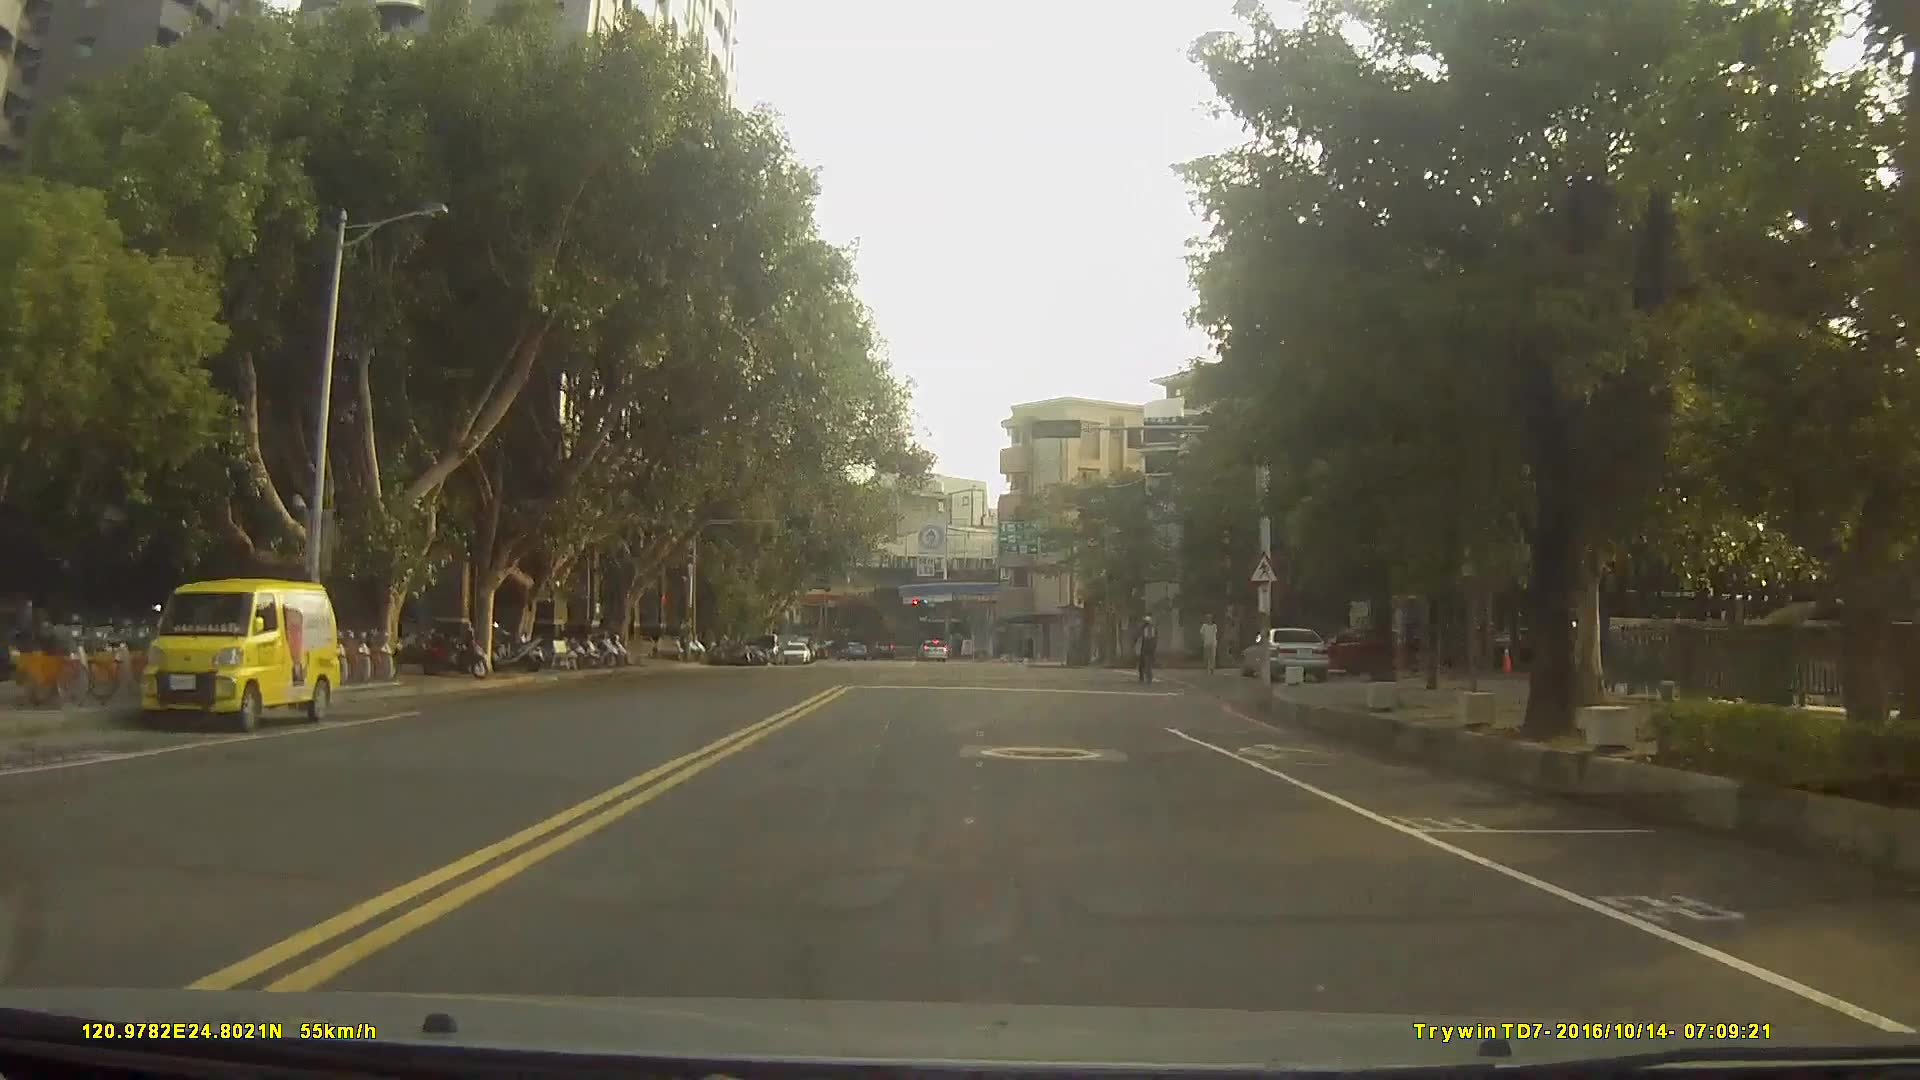pedestrian: (1199, 615, 1225, 683)
rider: (1, 573, 21, 788), (1135, 618, 1163, 685)
vehicle: (1239, 626, 1328, 683), (916, 637, 947, 661), (780, 639, 811, 661)
